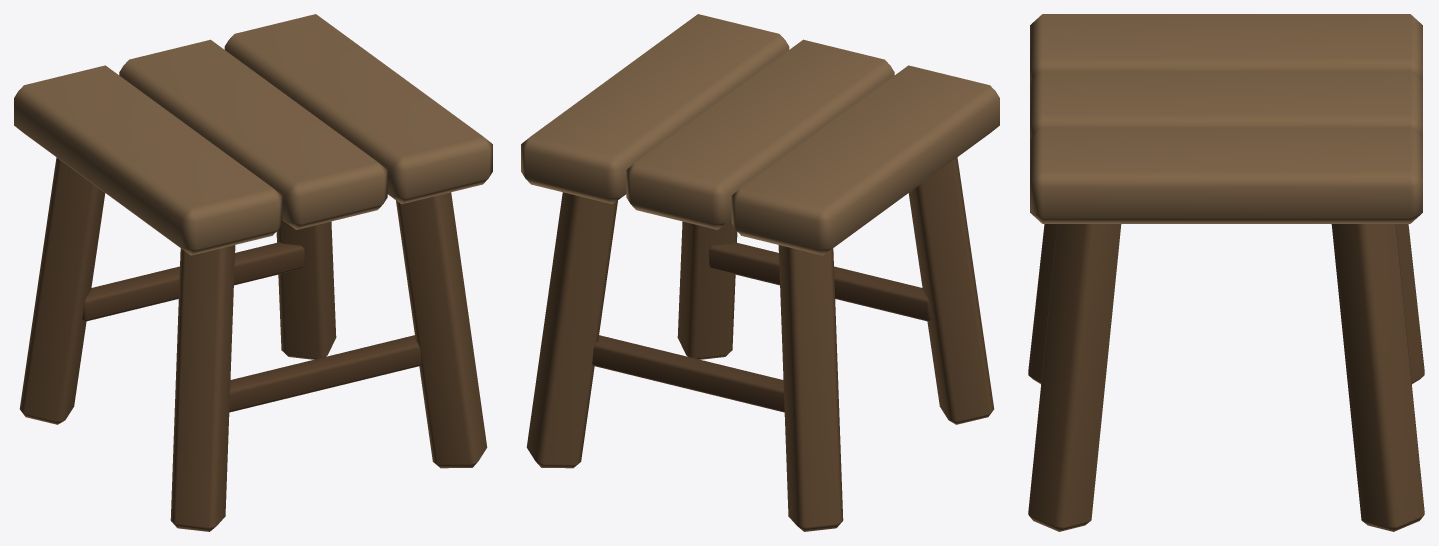
The model's file is Stool01.fbx.
The picture shows the model from 3 angles, left to right: view 1: azimuth 30°, elevation 25°; view 2: azimuth 150°, elevation 25°; view 3: azimuth 270°, elevation 25°; orthographic projection. The views are drawn at different scales.
Visible parts, largest first — view 1: Stool01.001; view 2: Stool01.001; view 3: Stool01.001.
Boxes of the visible parts, x1=… form: Stool01.001: x1=14, y1=14, x2=492, y2=531; Stool01.001: x1=521, y1=14, x2=999, y2=531; Stool01.001: x1=1028, y1=14, x2=1424, y2=531.
Size of the model in its own units: 47.4 by 47.79 by 47.37.
